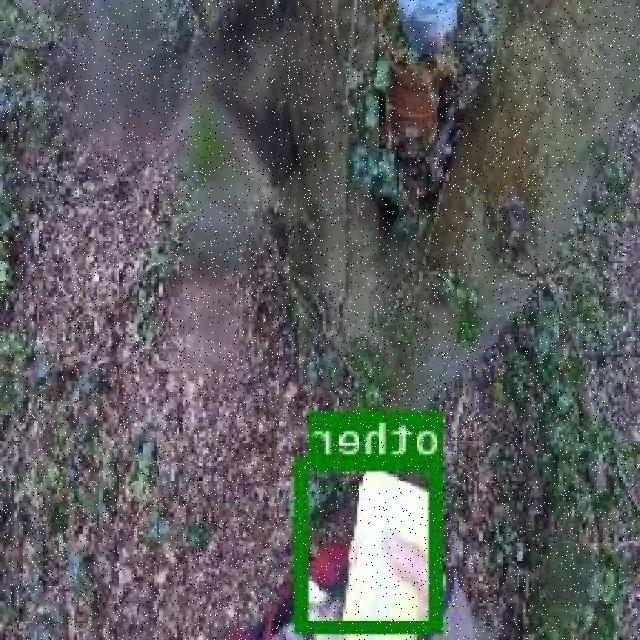other: (298, 456, 446, 629)
